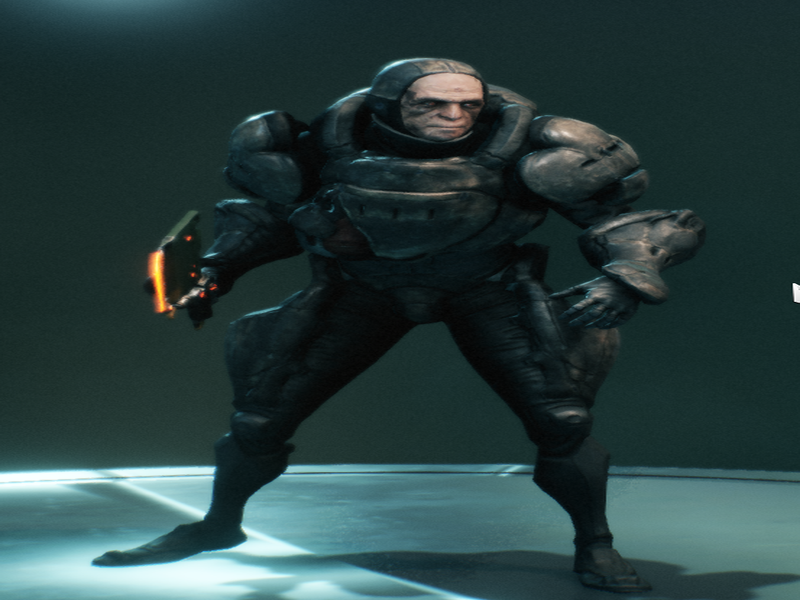grineer_butcher: (140, 42, 709, 594)
